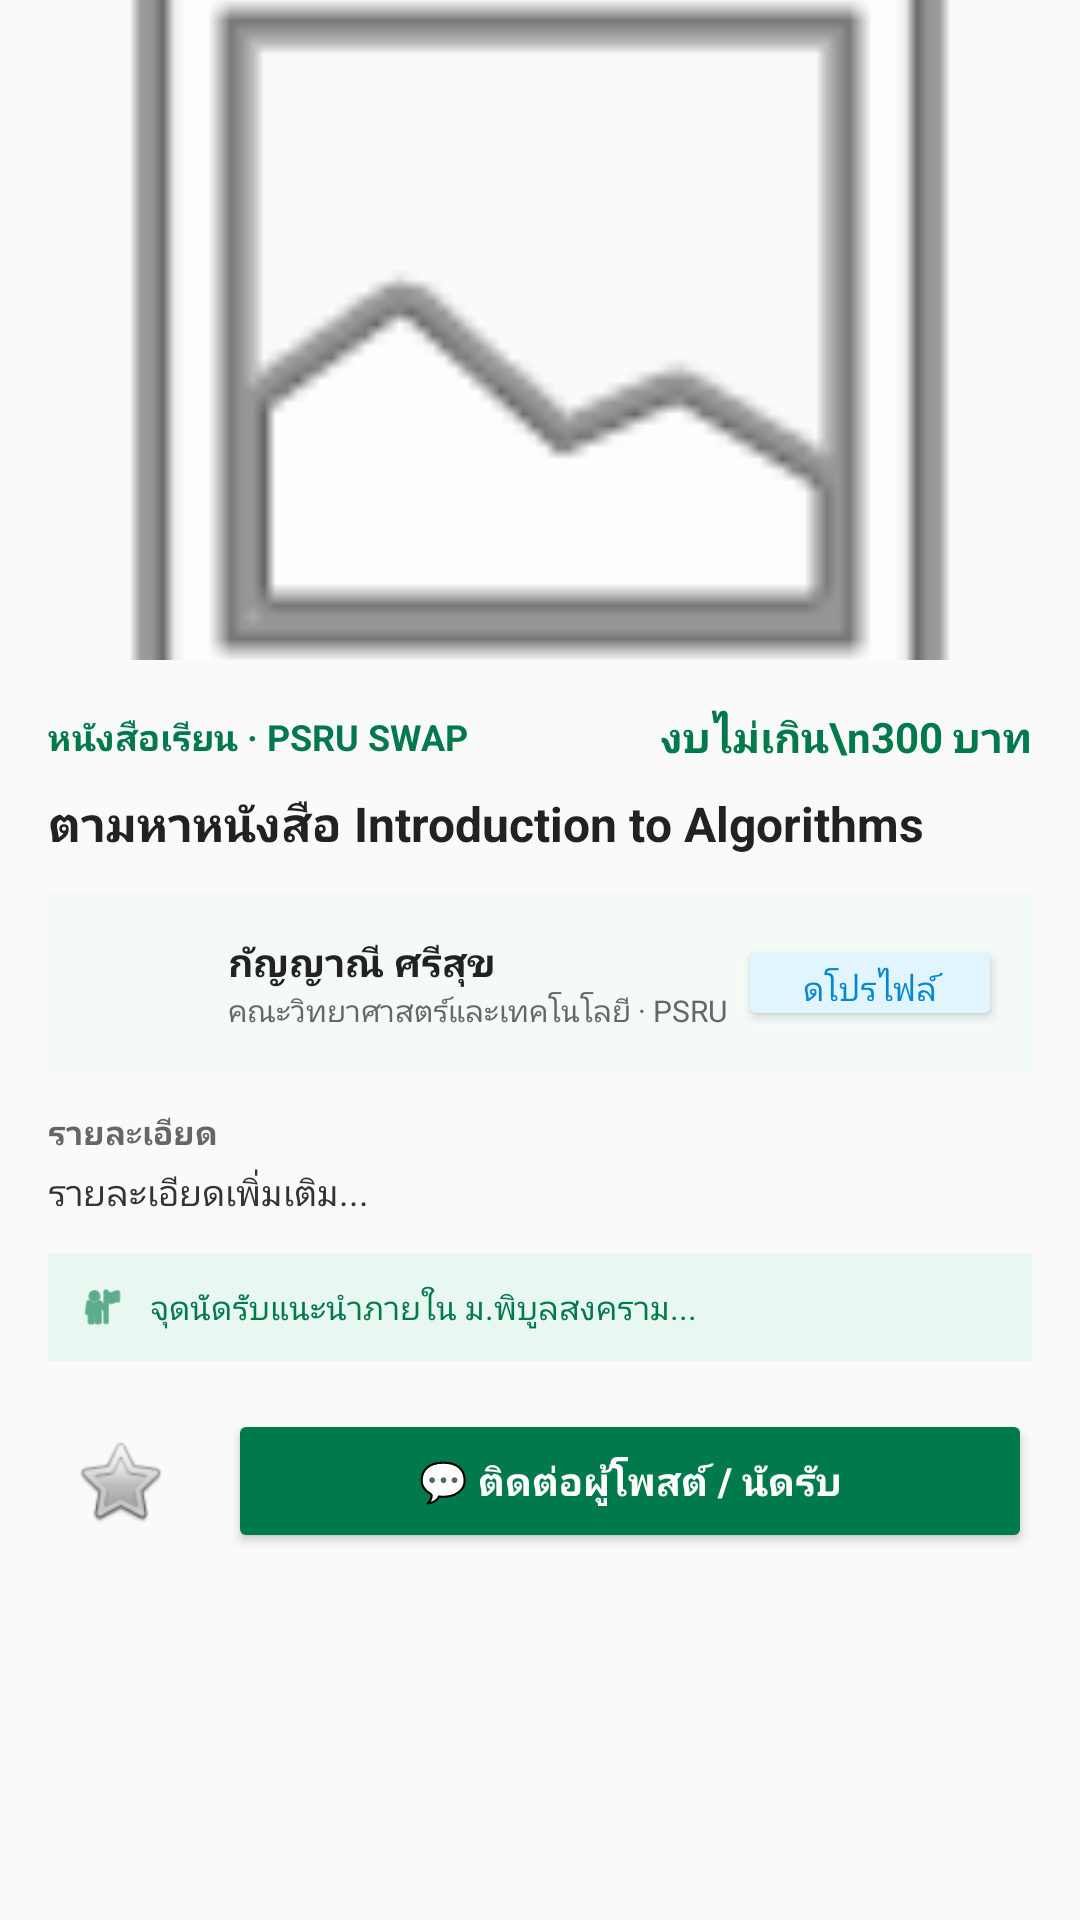

Icons on this 1080px×1920px Android screen, each with its box as (x1, y1, x2, y2):
myplaces: (84, 1289, 121, 1325)
star off: (81, 1443, 161, 1521)
